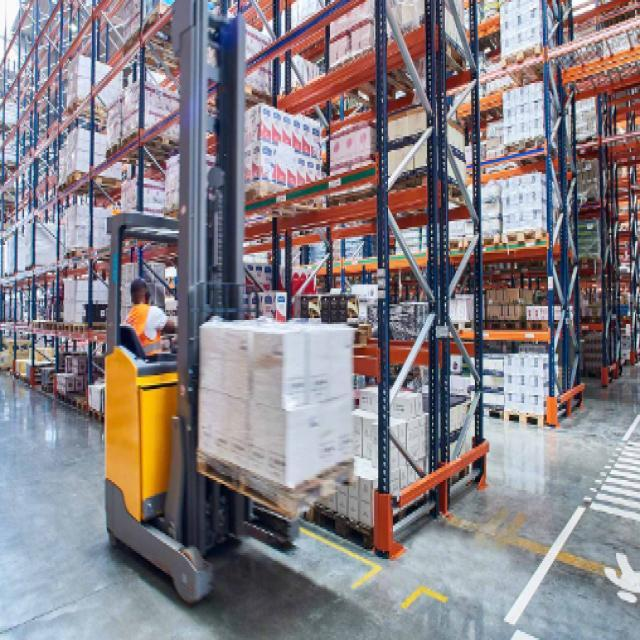vest: (129, 299, 165, 378)
